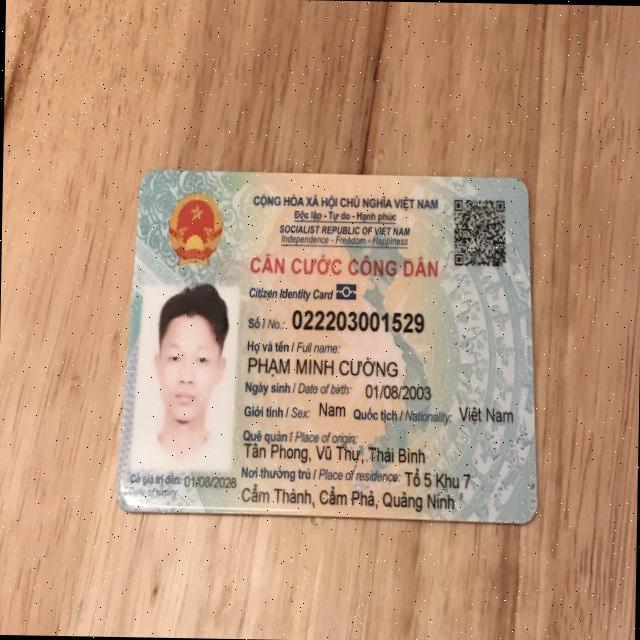current_place: (239, 482, 455, 512), (402, 467, 472, 490)
dob: (362, 377, 437, 406)
expire_date: (181, 472, 240, 489)
gender: (316, 395, 348, 421)
id: (287, 304, 426, 333)
name: (244, 349, 410, 380)
nationality: (455, 399, 516, 431)
origin_place: (245, 440, 427, 466)
